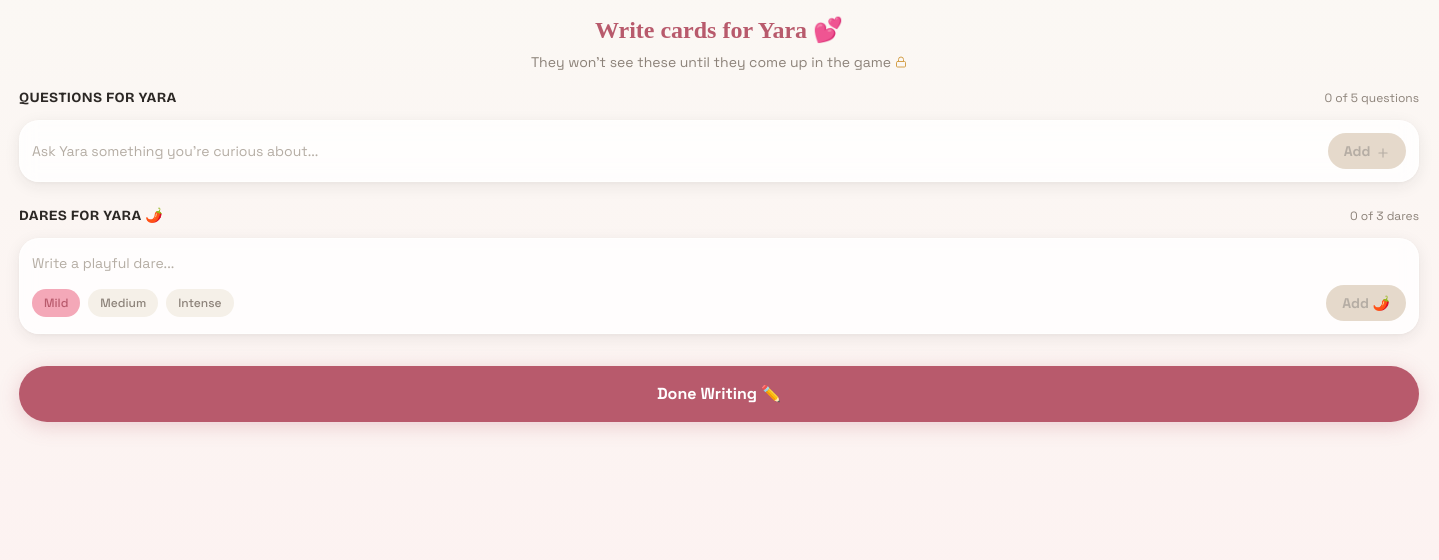
it: PartnerAuthoredSetup › displays written item counts on waiting screen
# Add 2 questions
Type "Q1" into the field with placeholder "Ask Yara something you're curious about...".
click(676, 151); type("Q1")  # box [32,133,1320,169]
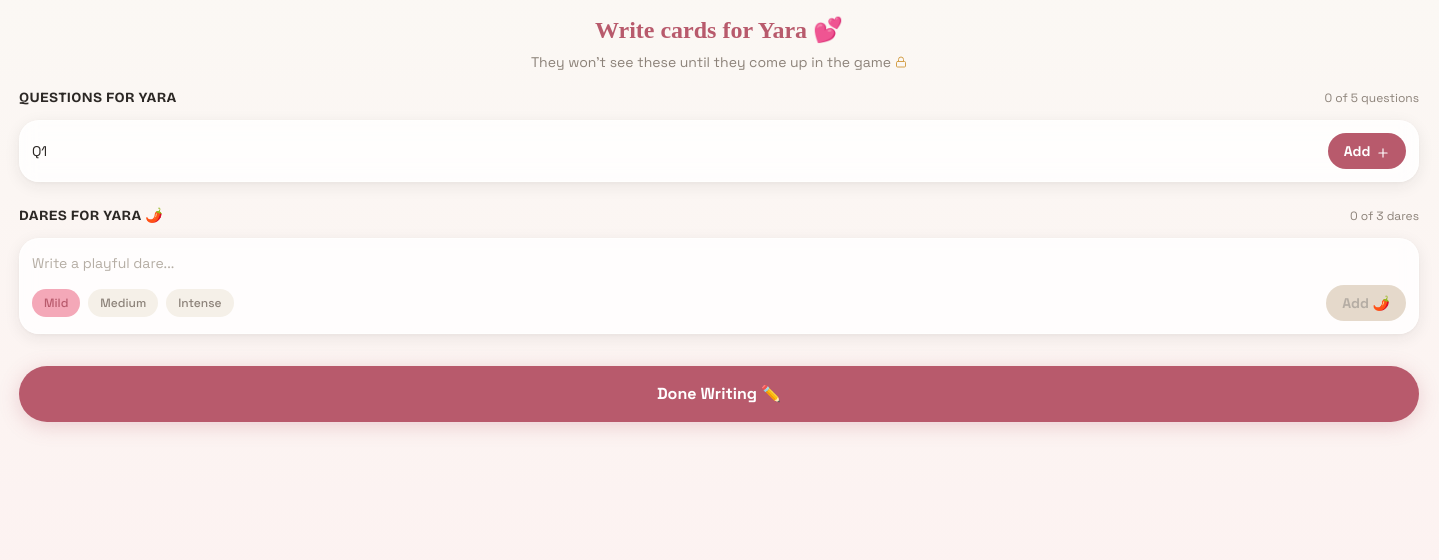
Press Enter in the field with placeholder "Ask Yara something you're curious about...", box [32,133,1320,169]
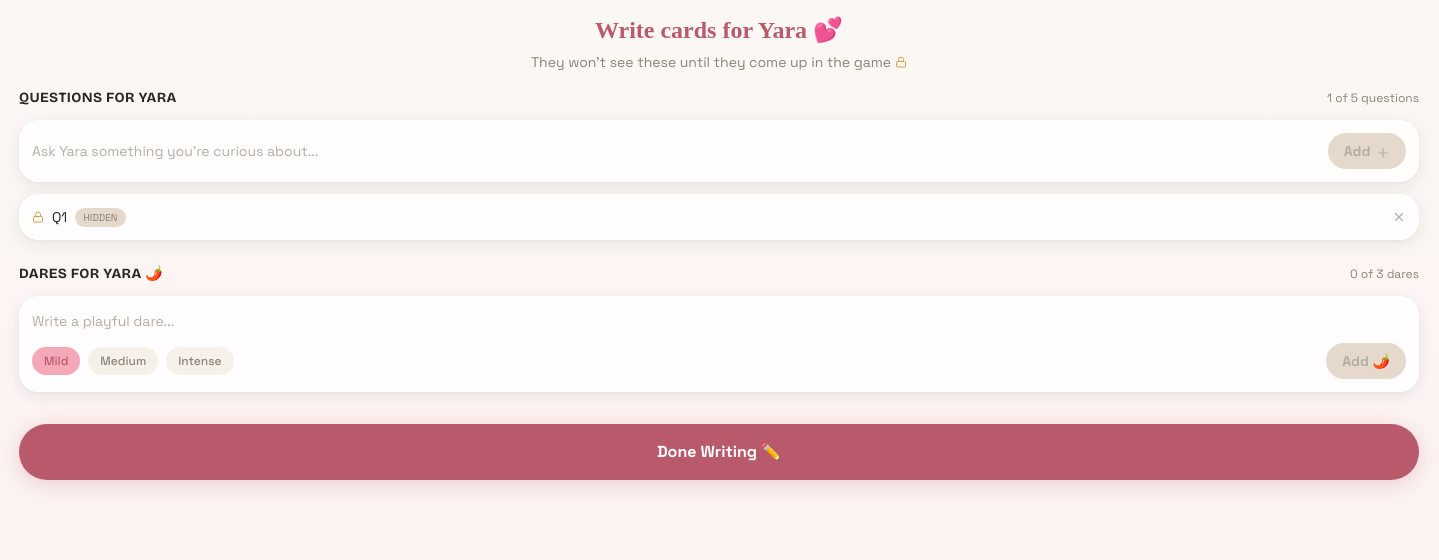
Type "Q2" into the field with placeholder "Ask Yara something you're curious about...".
click(676, 151); type("Q2")  # box [32,133,1320,169]
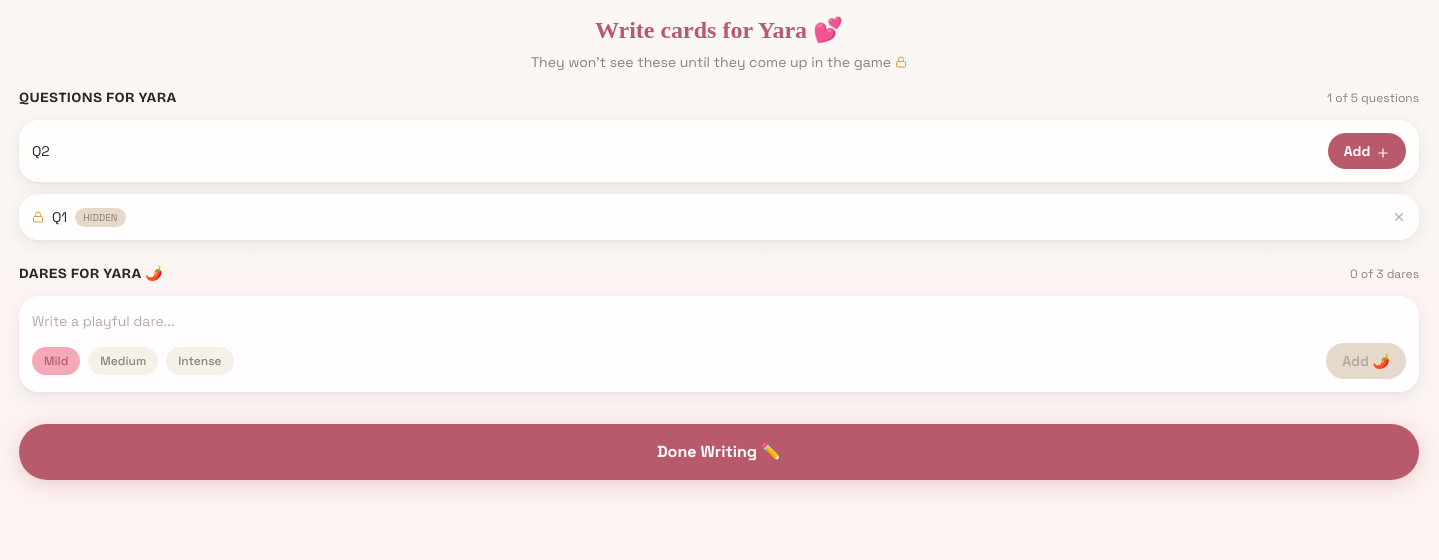
Press Enter in the field with placeholder "Ask Yara something you're curious about...", box [32,133,1320,169]
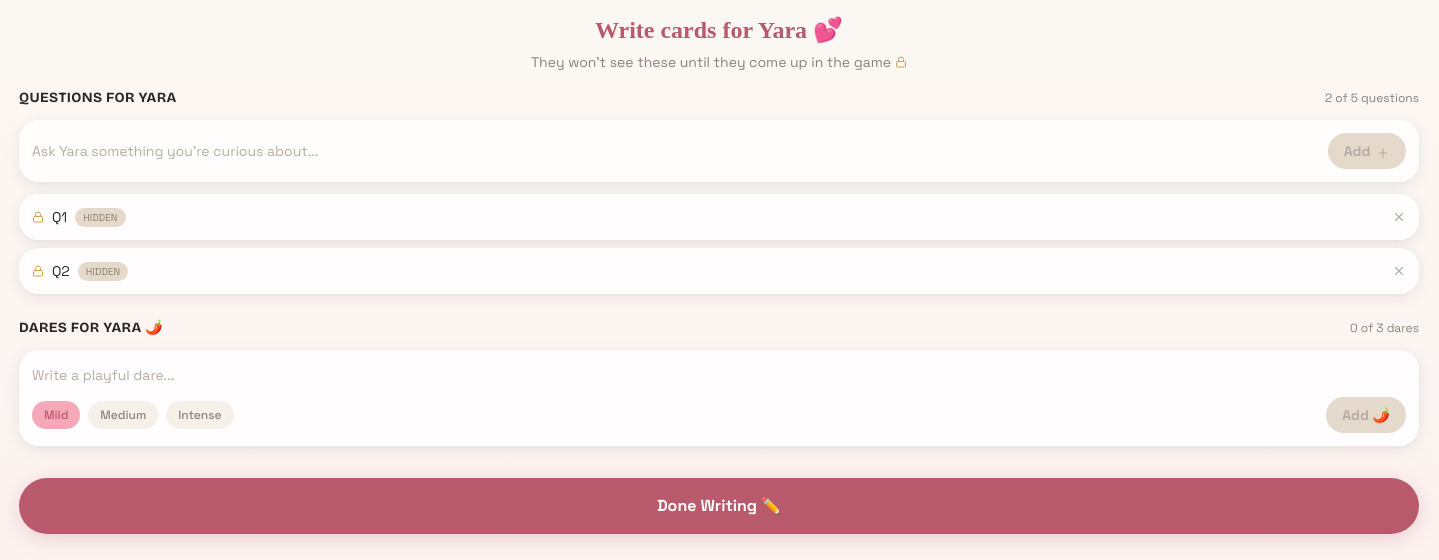
Click the button "Done Writing ✏️".
click(719, 506)  # box [19,478,1419,534]
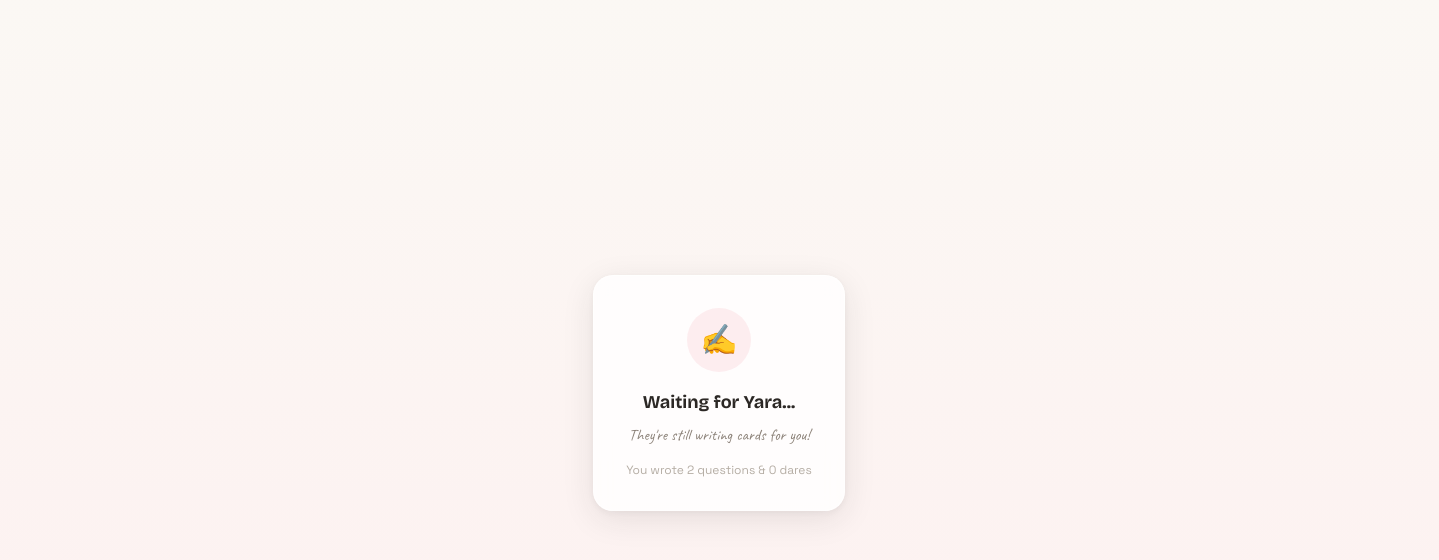
Result: the text "You wrote 2 questions & 0 dares" is shown at [626,462,812,478]
